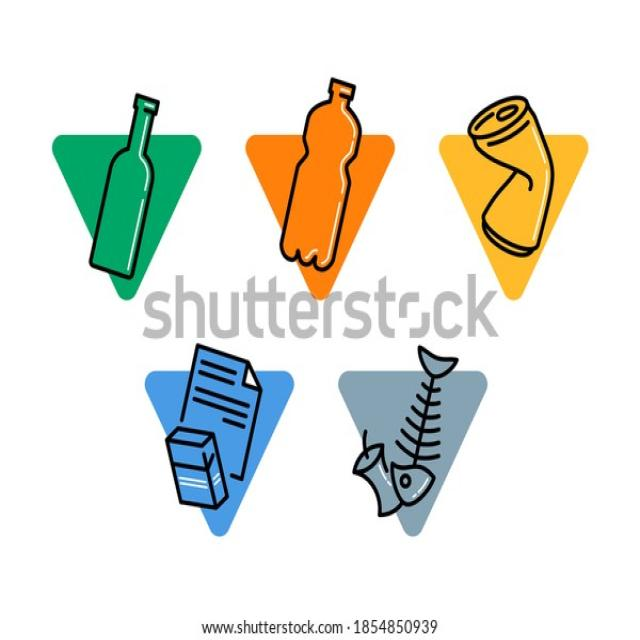cardboard: (149, 353, 290, 525)
glass: (66, 103, 186, 284)
metal: (465, 103, 575, 290)
plastic: (254, 86, 395, 300)
trash: (302, 374, 463, 536)
